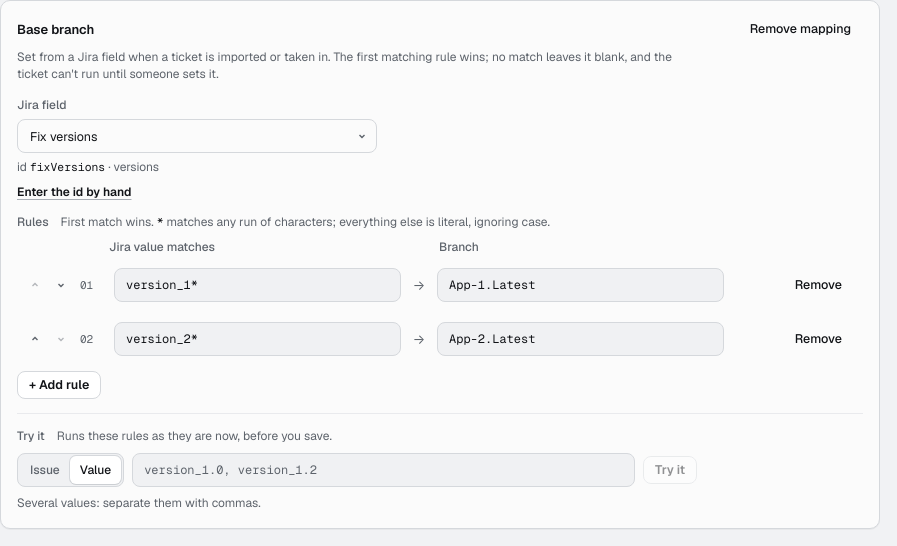
Test: MappingCard › switches from the list to typing the id, and back
The width and height of the screenshot is (897, 546).
Click the button "Enter the id by hand".
click(74, 192)  # box [17,184,132,200]
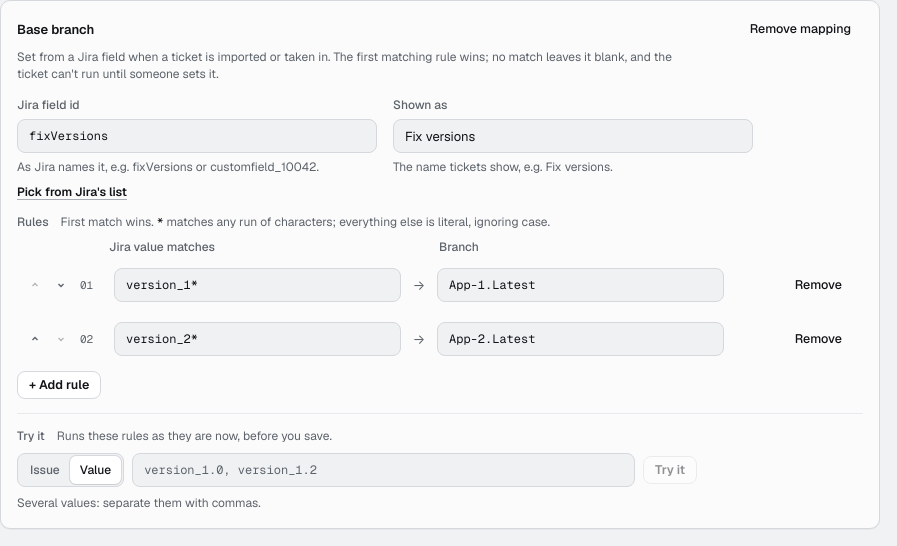
Click the button "Pick from Jira's list".
click(72, 192)  # box [17,184,127,200]
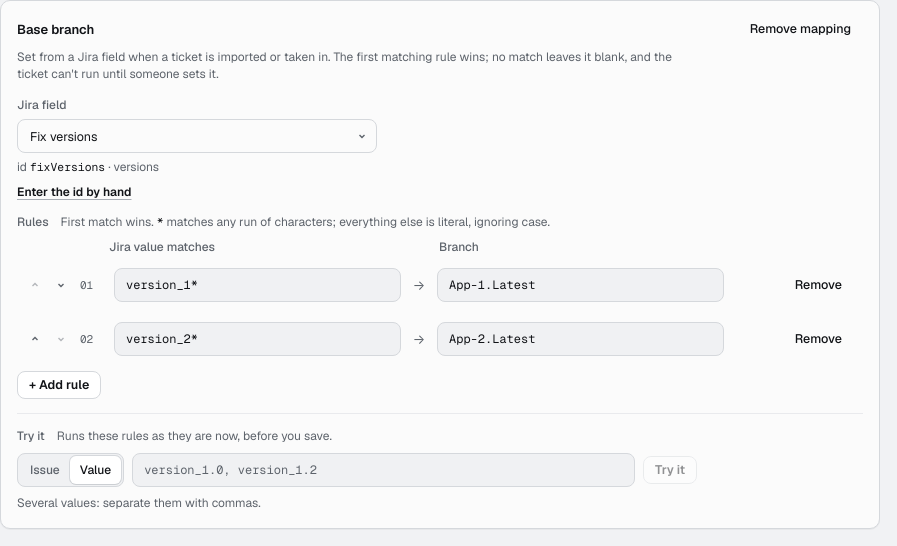
Expected: the dropdown labelled "Jira field" is shown, [17,119,377,153]
